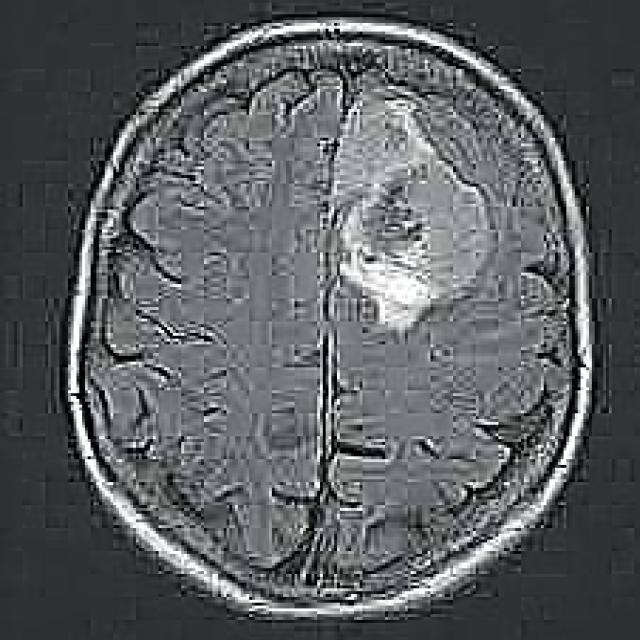Tumor-Cell: (320, 104, 470, 322)
